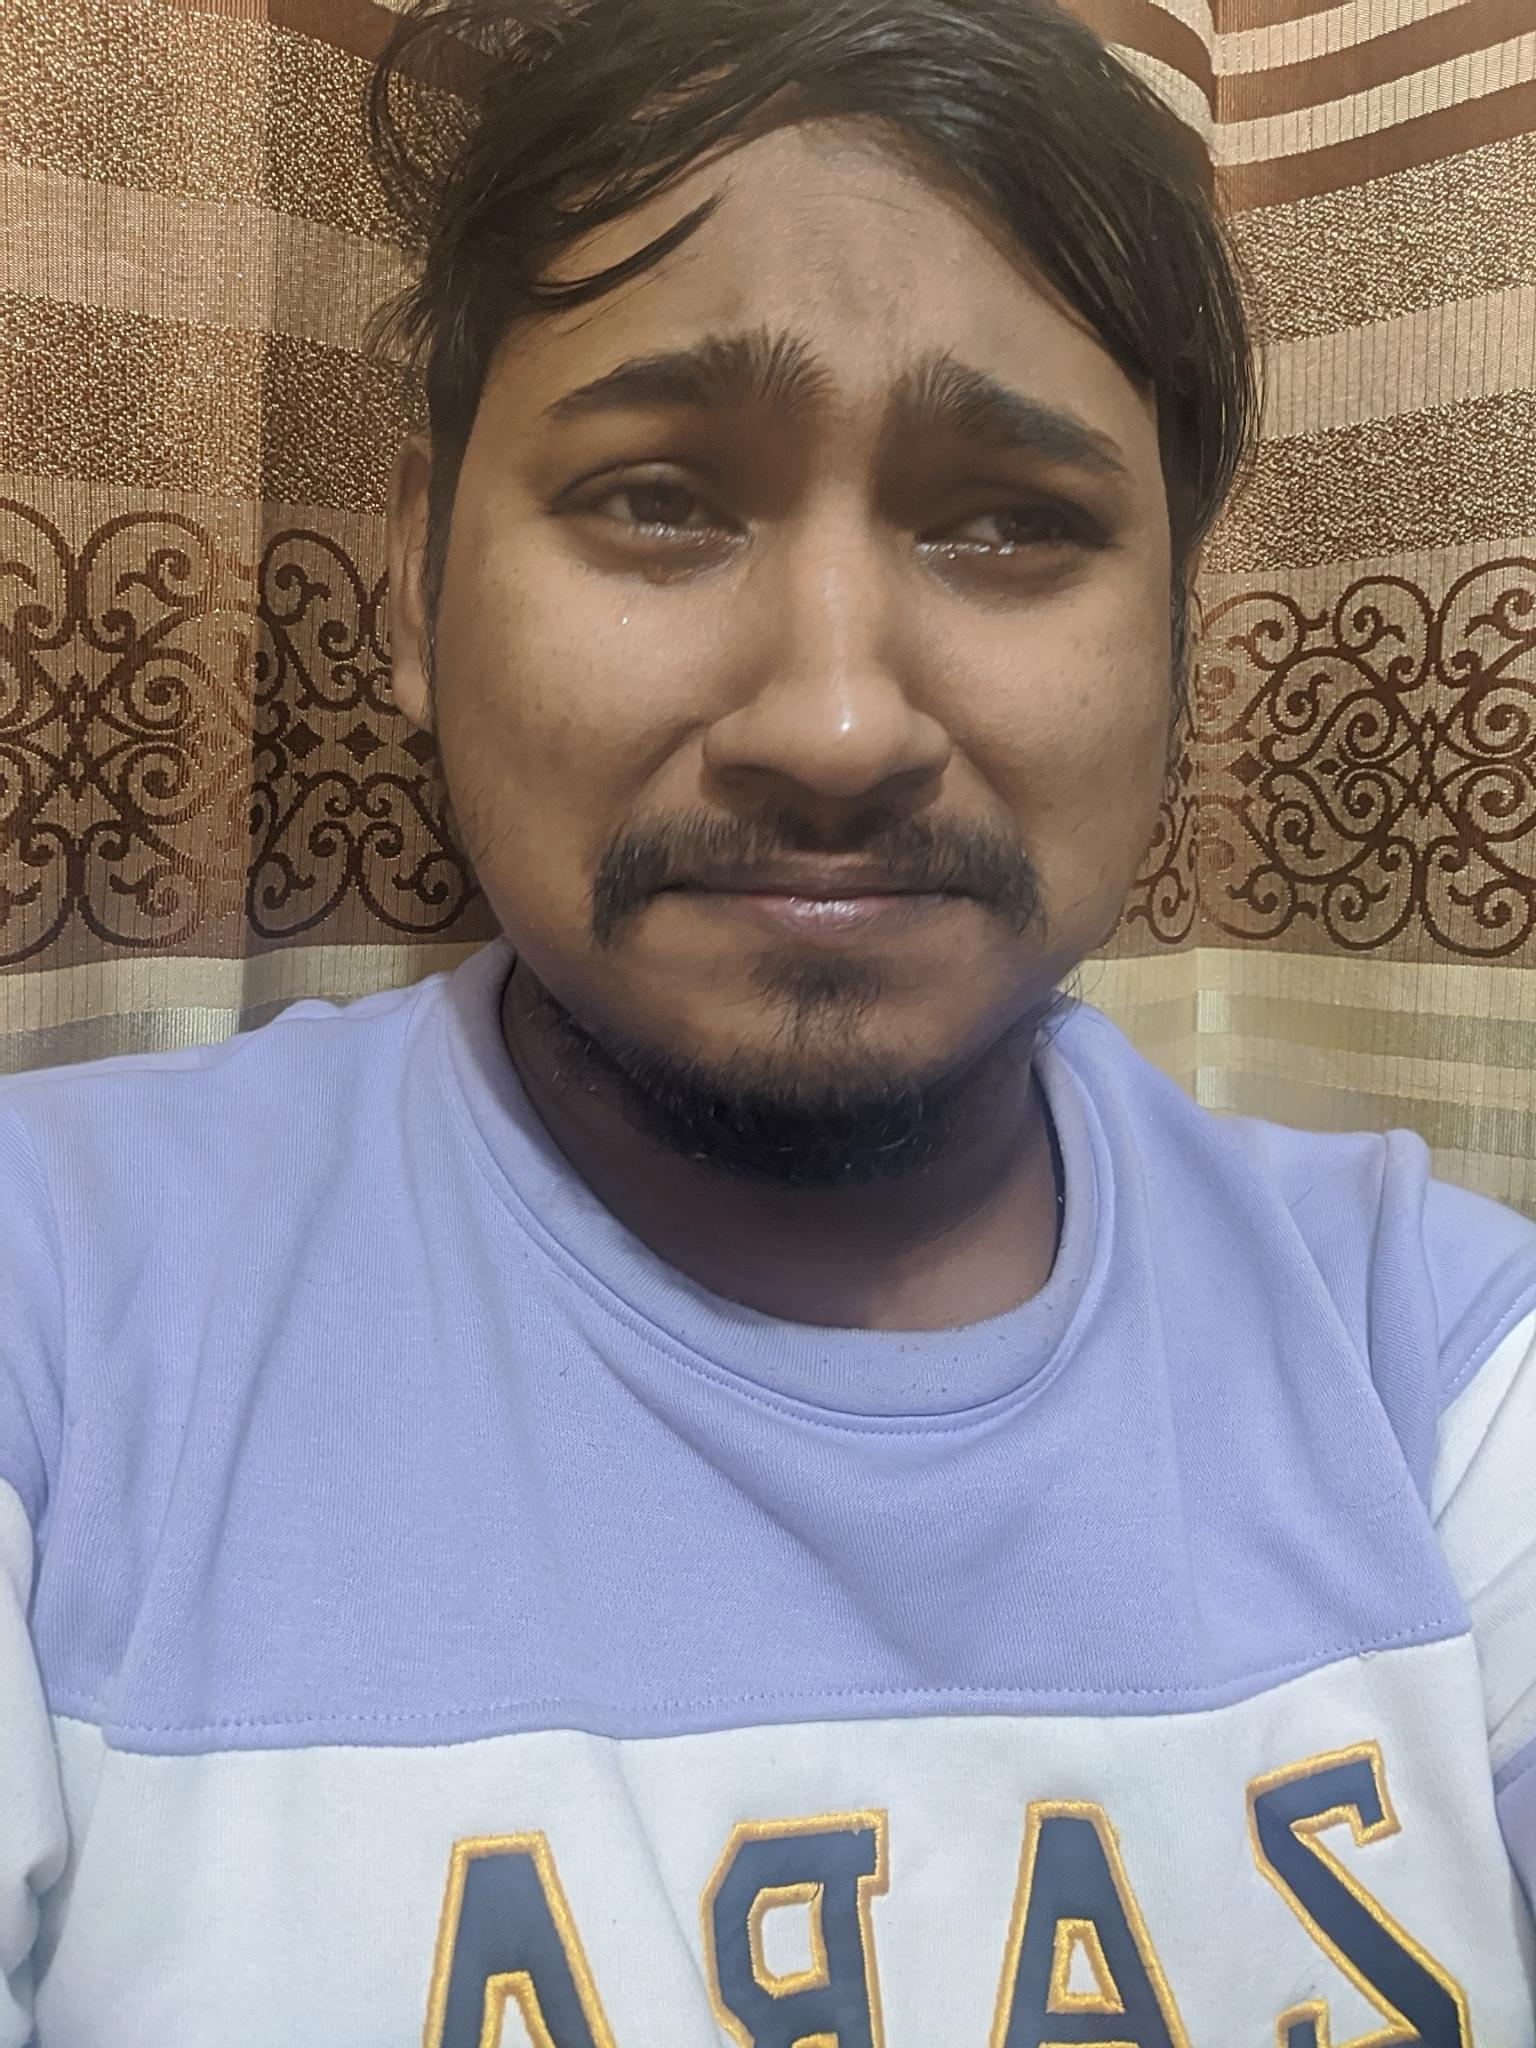Sad: (442, 255, 1158, 1126)
